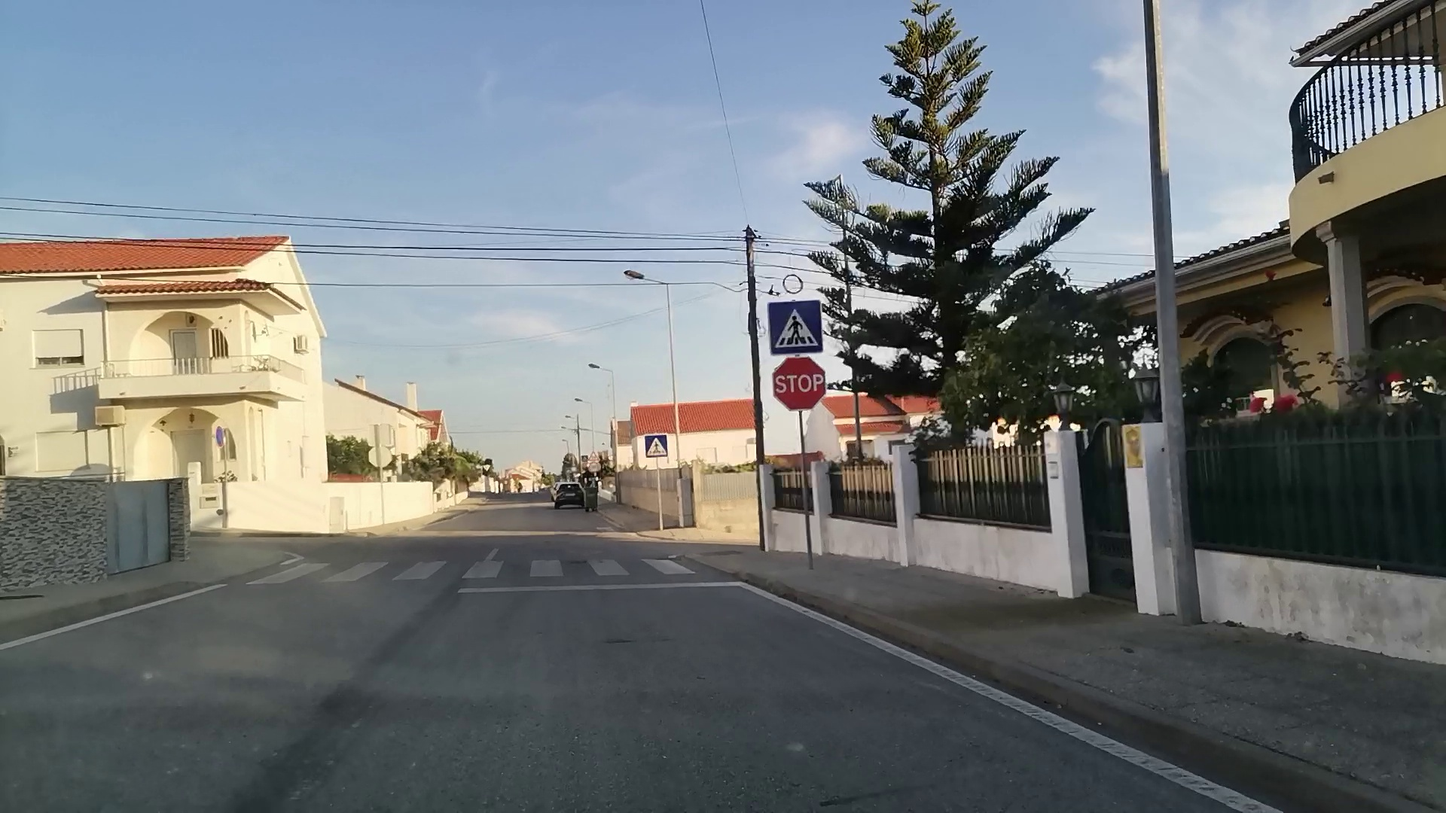Stairs: (233, 555, 703, 585)
